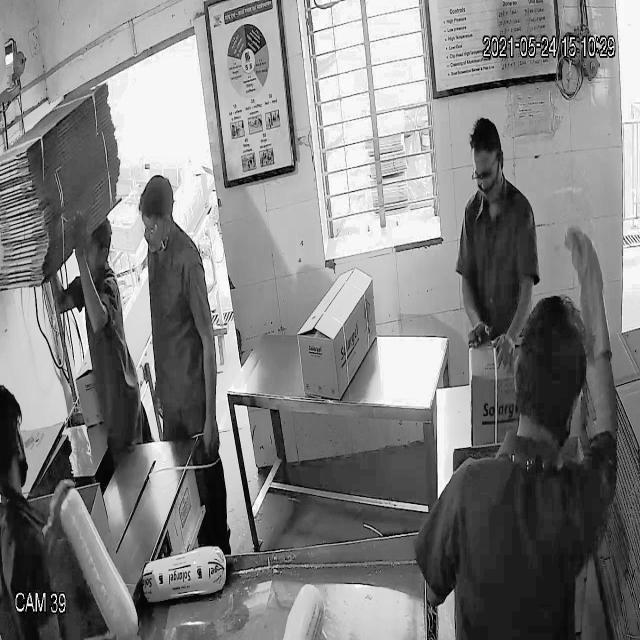glasses: (138, 212, 172, 238)
